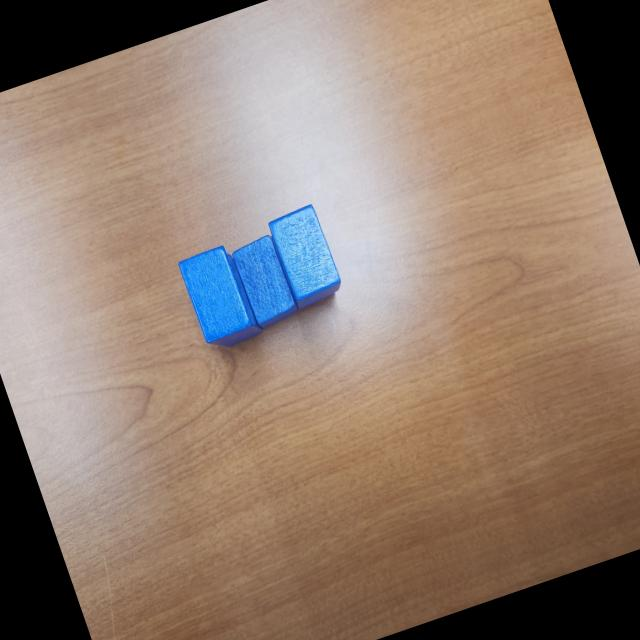blue: (265, 200, 348, 312), (176, 244, 255, 348), (226, 230, 302, 330), (192, 247, 265, 350)
